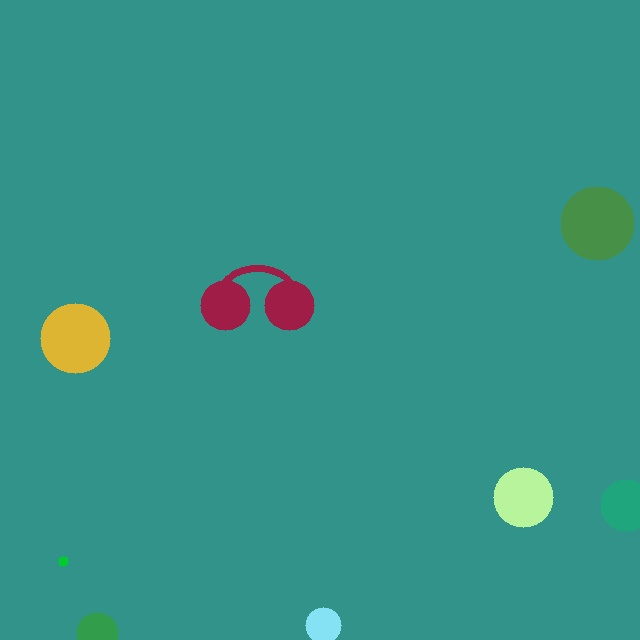over_ear: (196, 256, 318, 334)
